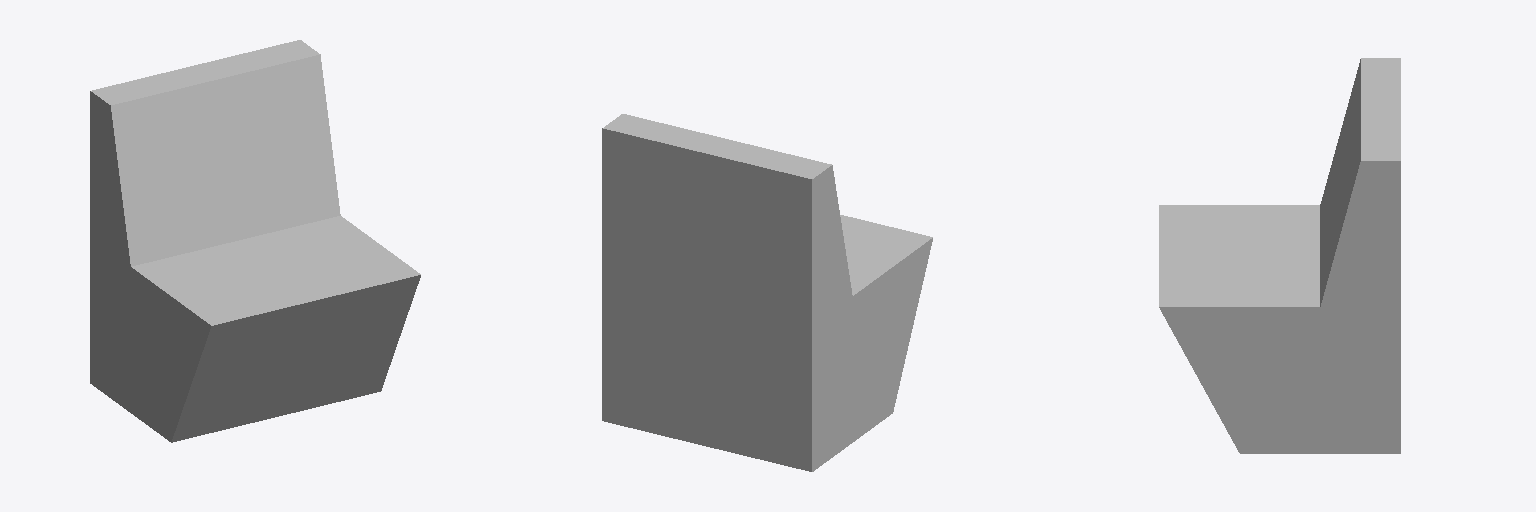
File: Toilet.obj
3 renders of one model, left to right at view 1: azimuth 30°, elevation 25°; view 2: azimuth 150°, elevation 25°; view 3: azimuth 270°, elevation 25°, orthographic.
Visible parts, largest first — view 1: Toilet; view 2: Toilet; view 3: Toilet.
Boxes of the visible parts, <box> form: Toilet: <box>90,40,420,442</box>; Toilet: <box>602,114,932,471</box>; Toilet: <box>1159,58,1400,453</box>.
Bounding box in the file's own units: 0.75 × 1 × 0.75.